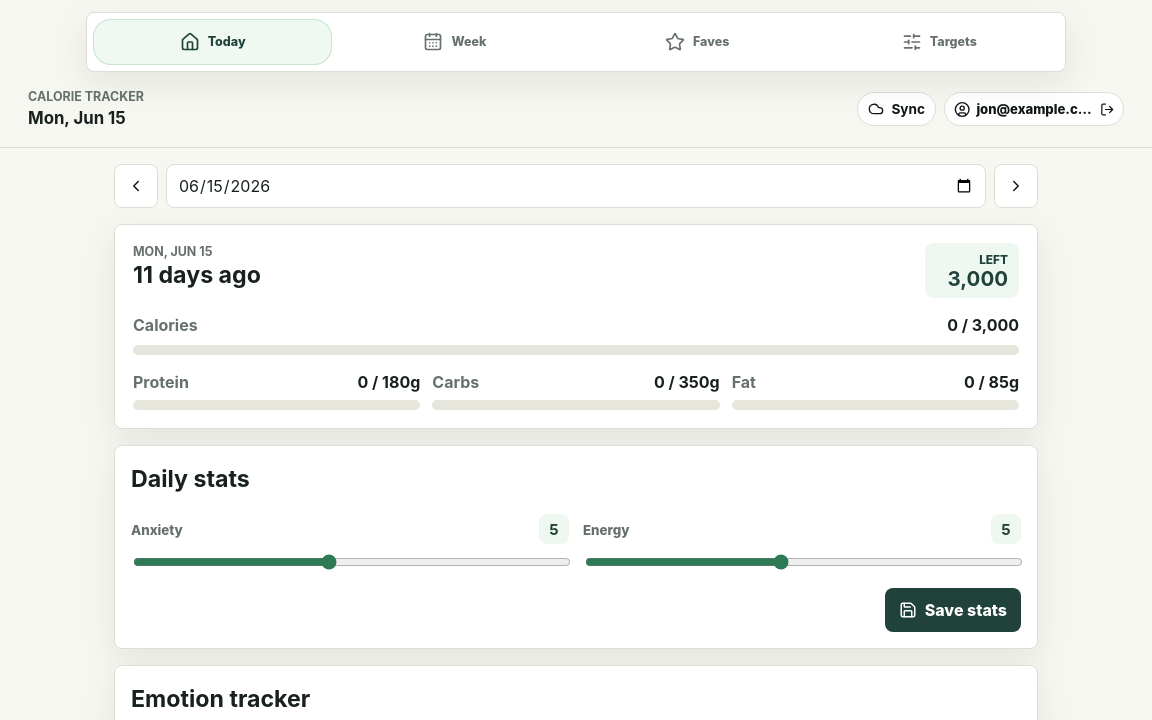
Test: TrackerShell › tracks daily anxiety and energy
This screenshot has width=1152, height=720.
Set the slider labelled "Anxiety 5" to "8" at (469, 562), box top-left (133, 554), bottom-right (571, 570)
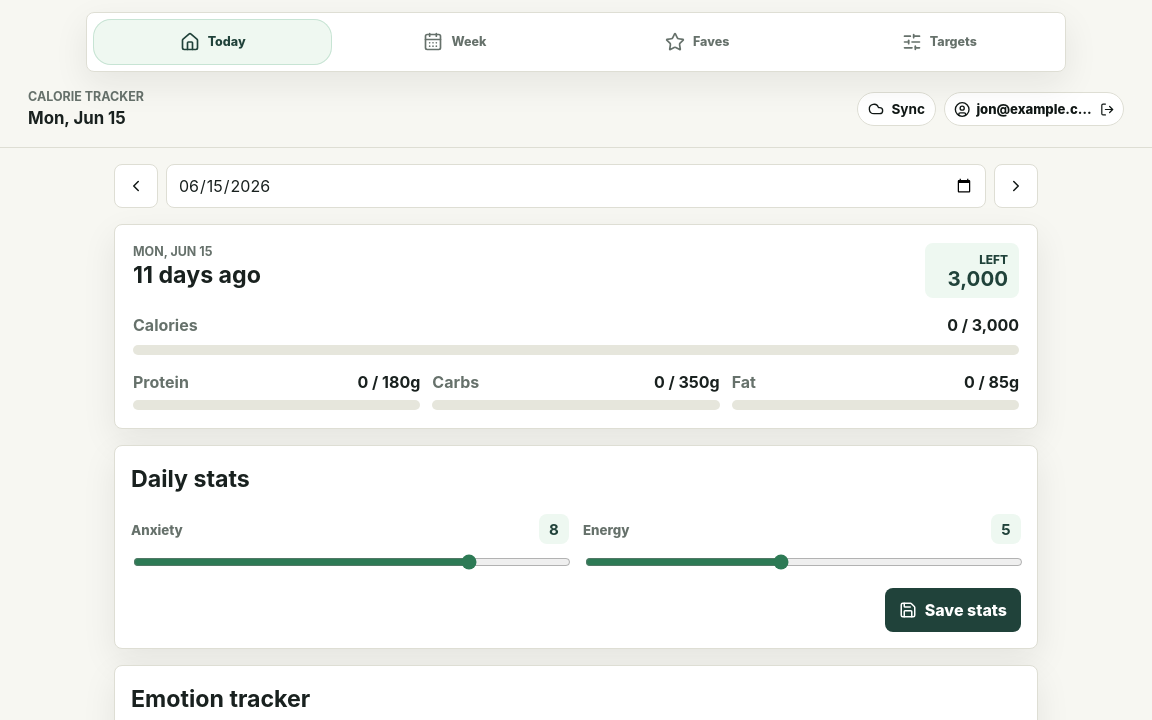
Set the slider labelled "Energy 5" to "4" at (734, 562), box top-left (585, 554), bottom-right (1023, 570)
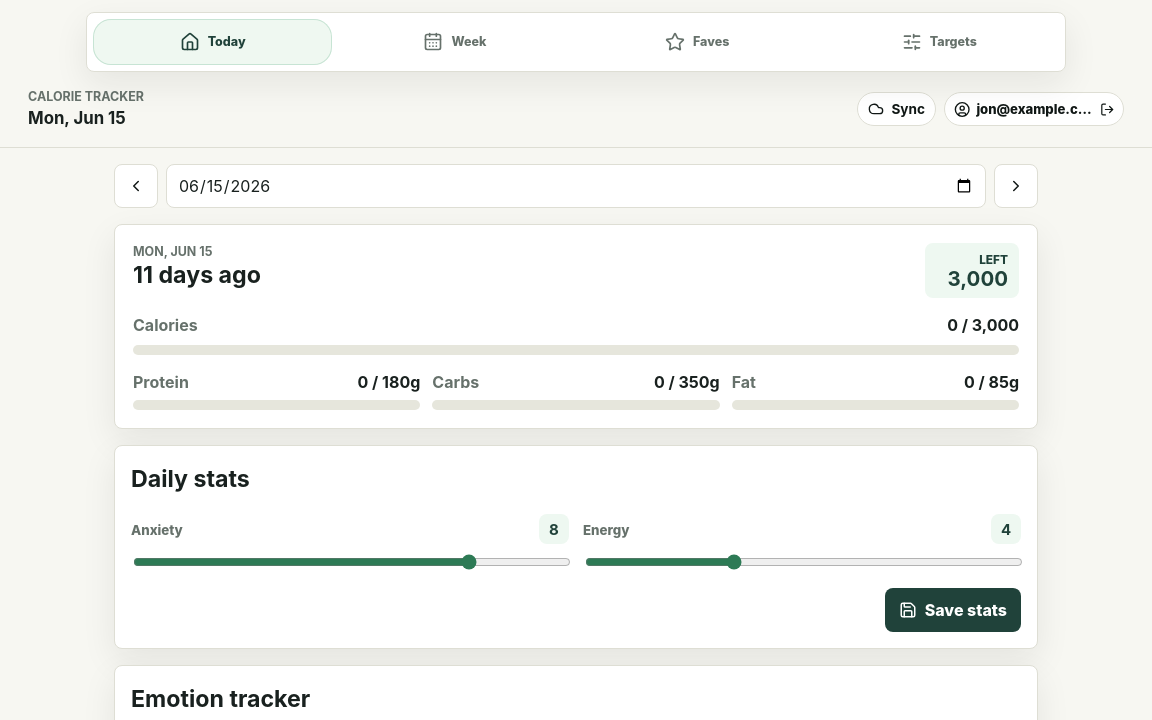
Click the button "Save stats".
click(953, 610)  # box top-left (885, 588), bottom-right (1021, 632)
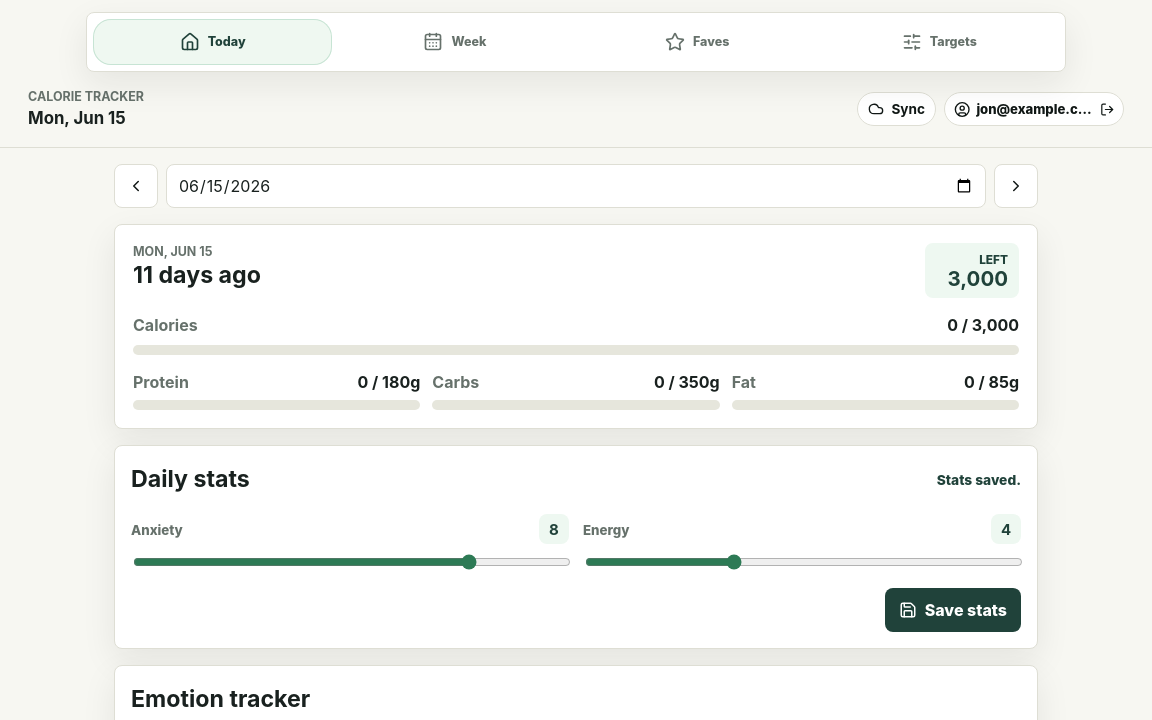
Result: the text "Stats saved." is shown at top-left (937, 471), bottom-right (1021, 490)
